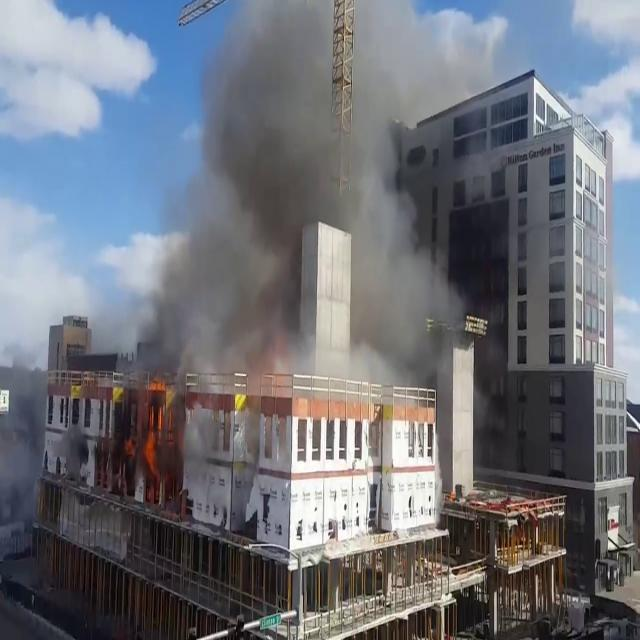Fire: (140, 375, 177, 485)
Smoke: (133, 1, 457, 371)
